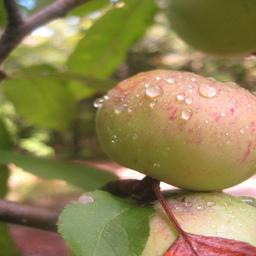apple: (95, 70, 256, 193)
